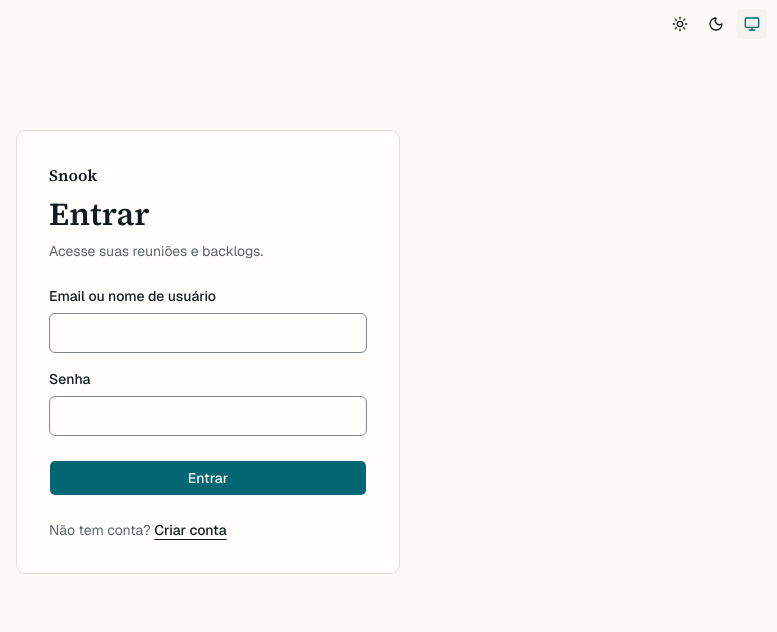
it: mostra o erro de login da API (auth 25)
The image size is (777, 632).
Type "ana" into the field labelled "Email ou nome de usuário" at (208, 333), box [49,313,367,353]
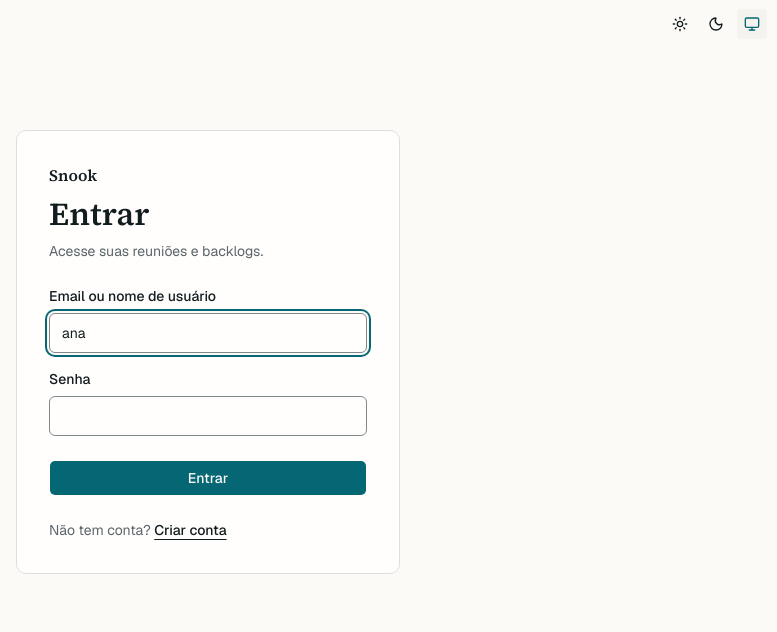
Type "senha-errada-1" into the password field labelled "Senha" at (208, 416), box [49,396,367,436]
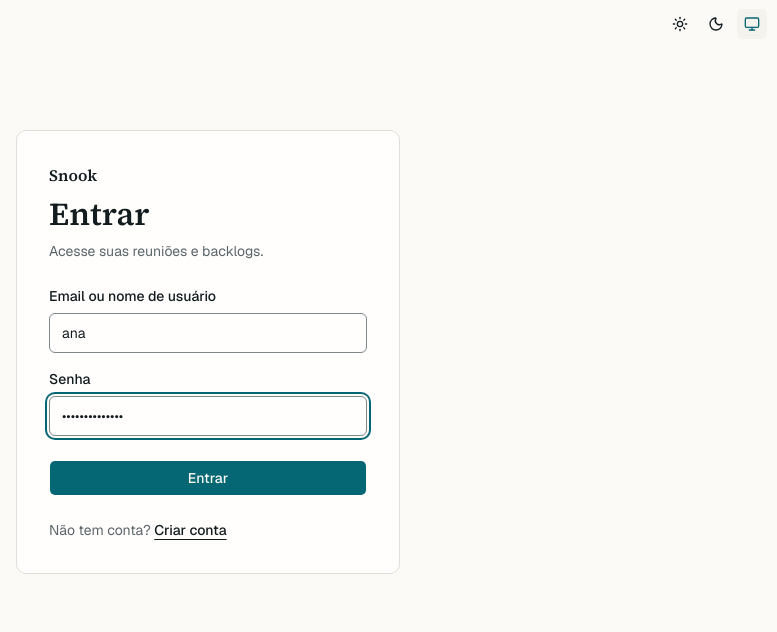
Click the button "Entrar" at (208, 478), box [49,460,367,496]
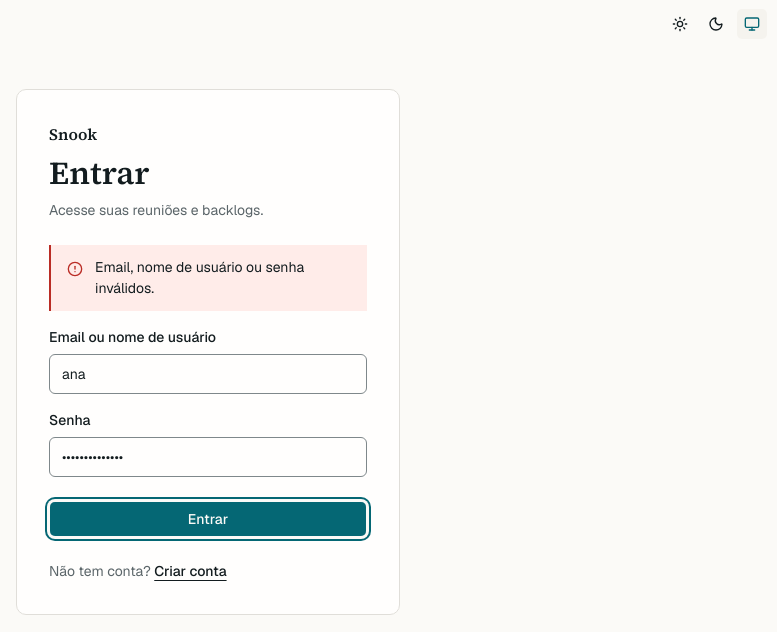
Expected: the heading "Entrar" is shown, [49,151,150,195]
Now the message reads "Email, nome de usuário ou senha inválidos.", box [95,258,304,297]
